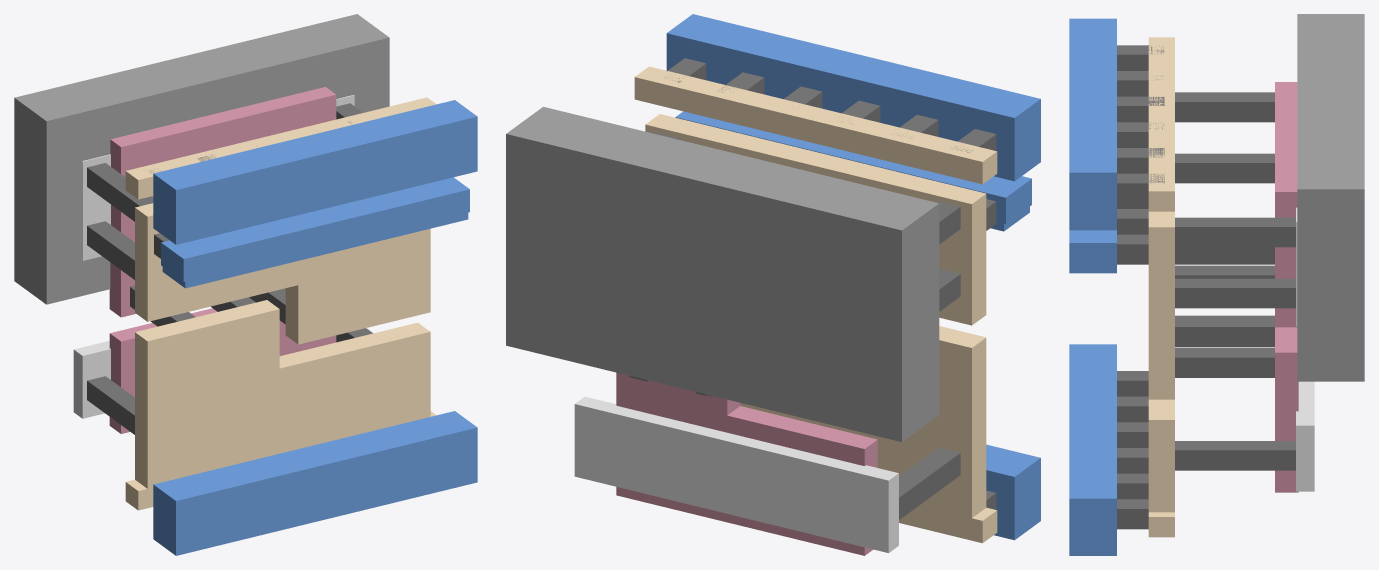
Rendered from sky130_fd_sc_hd__lpflow_decapkapwr_6.gds.gltf.
3 views of the same model, side by side, from view 1: azimuth 30°, elevation 25°; view 2: azimuth 150°, elevation 25°; view 3: azimuth 270°, elevation 25° (orthographic). The views are drawn at different scales.
Visible parts, largest first — view 1: sky130_fd_sc_hd__lpflow_decapkapwr_6_met1, sky130_fd_sc_hd__lpflow_decapkapwr_6_li1, sky130_fd_sc_hd__lpflow_decapkapwr_6_nwell, sky130_fd_sc_hd__lpflow_decapkapwr_6_poly, sky130_fd_sc_hd__lpflow_decapkapwr_6_licon, sky130_fd_sc_hd__lpflow_decapkapwr_6_diff; view 2: sky130_fd_sc_hd__lpflow_decapkapwr_6_nwell, sky130_fd_sc_hd__lpflow_decapkapwr_6_li1, sky130_fd_sc_hd__lpflow_decapkapwr_6_met1, sky130_fd_sc_hd__lpflow_decapkapwr_6_diff, sky130_fd_sc_hd__lpflow_decapkapwr_6_poly, sky130_fd_sc_hd__lpflow_decapkapwr_6_licon, sky130_fd_sc_hd__lpflow_decapkapwr_6_mcon; view 3: sky130_fd_sc_hd__lpflow_decapkapwr_6_licon, sky130_fd_sc_hd__lpflow_decapkapwr_6_nwell, sky130_fd_sc_hd__lpflow_decapkapwr_6_met1, sky130_fd_sc_hd__lpflow_decapkapwr_6_li1, sky130_fd_sc_hd__lpflow_decapkapwr_6_mcon, sky130_fd_sc_hd__lpflow_decapkapwr_6_poly, sky130_fd_sc_hd__lpflow_decapkapwr_6_diff.
Part boxes in pixels (left/top/right/bottom): sky130_fd_sc_hd__lpflow_decapkapwr_6_met1: left=153, top=100, right=477, bottom=555; sky130_fd_sc_hd__lpflow_decapkapwr_6_li1: left=125, top=97, right=436, bottom=510; sky130_fd_sc_hd__lpflow_decapkapwr_6_nwell: left=14, top=14, right=389, bottom=304; sky130_fd_sc_hd__lpflow_decapkapwr_6_poly: left=109, top=87, right=336, bottom=433; sky130_fd_sc_hd__lpflow_decapkapwr_6_licon: left=87, top=103, right=372, bottom=434; sky130_fd_sc_hd__lpflow_decapkapwr_6_diff: left=73, top=95, right=354, bottom=418; sky130_fd_sc_hd__lpflow_decapkapwr_6_nwell: left=506, top=106, right=939, bottom=441; sky130_fd_sc_hd__lpflow_decapkapwr_6_li1: left=634, top=66, right=997, bottom=543; sky130_fd_sc_hd__lpflow_decapkapwr_6_met1: left=666, top=14, right=1040, bottom=540; sky130_fd_sc_hd__lpflow_decapkapwr_6_diff: left=574, top=396, right=898, bottom=553; sky130_fd_sc_hd__lpflow_decapkapwr_6_poly: left=616, top=372, right=877, bottom=555; sky130_fd_sc_hd__lpflow_decapkapwr_6_licon: left=628, top=132, right=960, bottom=519; sky130_fd_sc_hd__lpflow_decapkapwr_6_mcon: left=662, top=58, right=996, bottom=509; sky130_fd_sc_hd__lpflow_decapkapwr_6_licon: left=1175, top=92, right=1295, bottom=470; sky130_fd_sc_hd__lpflow_decapkapwr_6_nwell: left=1297, top=14, right=1364, bottom=381; sky130_fd_sc_hd__lpflow_decapkapwr_6_met1: left=1069, top=18, right=1116, bottom=555; sky130_fd_sc_hd__lpflow_decapkapwr_6_li1: left=1148, top=37, right=1174, bottom=537; sky130_fd_sc_hd__lpflow_decapkapwr_6_mcon: left=1117, top=45, right=1164, bottom=529; sky130_fd_sc_hd__lpflow_decapkapwr_6_poly: left=1275, top=82, right=1298, bottom=492; sky130_fd_sc_hd__lpflow_decapkapwr_6_diff: left=1296, top=207, right=1314, bottom=491.
Size of the model in its own units: 3.14 by 3.2 by 2.24.
